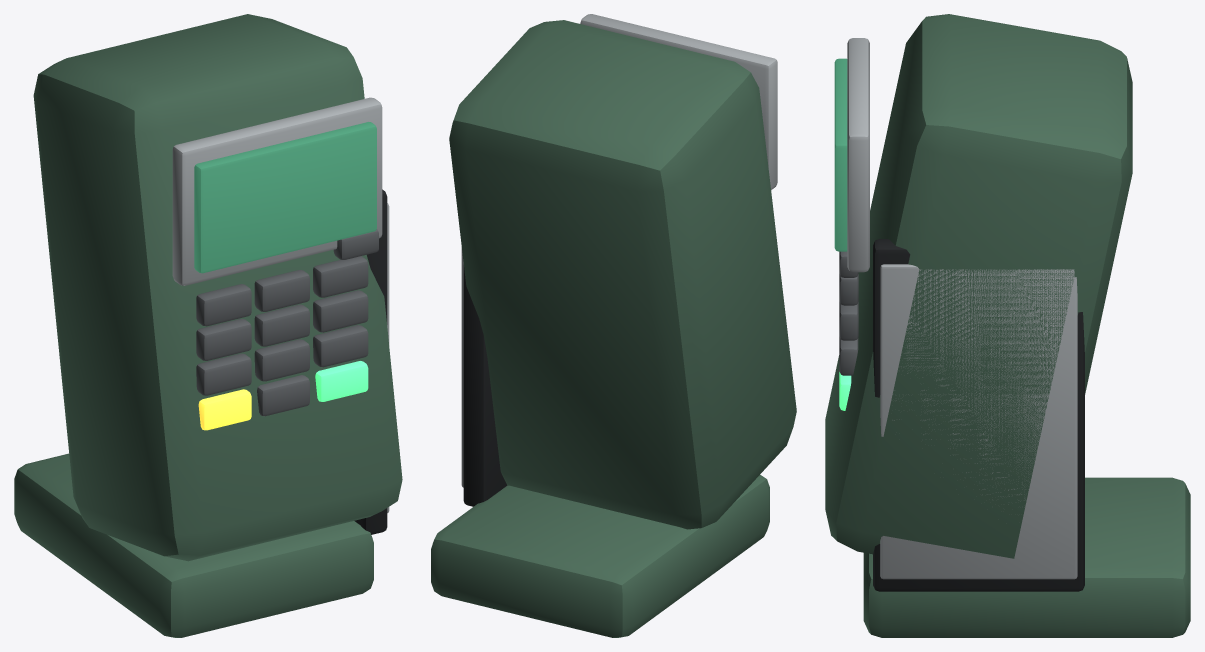
The model's file is card_reader_public.glb.
3 views of the same model, side by side, from view 1: azimuth 30°, elevation 25°; view 2: azimuth 150°, elevation 25°; view 3: azimuth 270°, elevation 25° (orthographic). The views are drawn at different scales.
Visible parts, largest first — view 1: Reader_Shell, Reader_Stand, Terminal_Screen, Reader_ScreenFrame, Terminal_Key_5, Terminal_Key_1, Terminal_Key_6, Terminal_Key_4, Terminal_Key_7, Terminal_Key_9, Terminal_Key_2, Terminal_Key_8 (+6 smaller); view 2: Reader_Shell, Reader_Stand, Reader_SwipeRailOuter, Reader_ScreenFrame, Reader_SwipeRailInner; view 3: Reader_Shell, Reader_SwipeRailInner, Reader_Stand, Reader_SwipeRailOuter, Reader_ScreenFrame, Terminal_Screen, Terminal_Key_6, Terminal_Key_9, Terminal_Key_3.
Part boxes in pixels (<box>): Reader_Shell: <box>33,14,402,561</box>; Reader_Stand: <box>14,453,373,637</box>; Terminal_Screen: <box>194,122,376,273</box>; Reader_ScreenFrame: <box>172,97,382,285</box>; Terminal_Key_5: <box>254,304,309,346</box>; Terminal_Key_1: <box>196,284,251,326</box>; Terminal_Key_6: <box>313,290,368,332</box>; Terminal_Key_4: <box>196,319,251,360</box>; Terminal_Key_7: <box>196,353,251,395</box>; Terminal_Key_9: <box>313,325,368,367</box>; Terminal_Key_2: <box>254,270,309,311</box>; Terminal_Key_8: <box>254,339,309,381</box>; Reader_Shell: <box>449,20,796,529</box>; Reader_Stand: <box>431,474,769,637</box>; Reader_SwipeRailOuter: <box>463,265,507,506</box>; Reader_ScreenFrame: <box>580,14,777,189</box>; Reader_SwipeRailInner: <box>461,247,463,487</box>; Reader_Shell: <box>825,14,1132,558</box>; Reader_SwipeRailInner: <box>880,264,1077,579</box>; Reader_Stand: <box>863,477,1190,637</box>; Reader_SwipeRailOuter: <box>873,239,1084,591</box>; Reader_ScreenFrame: <box>847,38,869,272</box>; Terminal_Screen: <box>834,58,847,251</box>; Terminal_Key_6: <box>839,301,858,340</box>; Terminal_Key_9: <box>839,336,858,375</box>; Terminal_Key_3: <box>839,274,858,305</box>.
Size of what is drawn, in the model's own units: 0.09 by 0.1831 by 0.1139.
